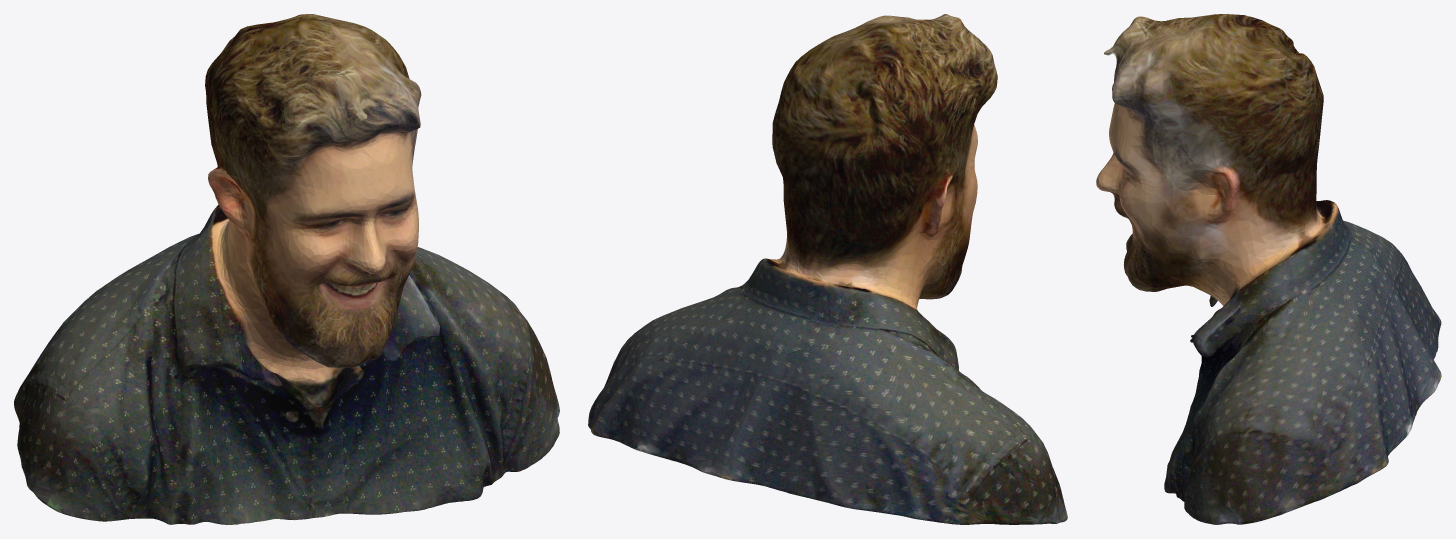
Rendered from ben-head.glb.
The picture shows the model from 3 angles, left to right: view 1: azimuth 30°, elevation 25°; view 2: azimuth 150°, elevation 25°; view 3: azimuth 270°, elevation 25°; orthographic projection. The views are drawn at different scales.
Visible parts, largest first — view 1: model_mesh; view 2: model_mesh; view 3: model_mesh.
Boxes of the visible parts, x1=… form: model_mesh: x1=14, y1=14, x2=559, y2=524; model_mesh: x1=588, y1=14, x2=1067, y2=524; model_mesh: x1=1096, y1=14, x2=1441, y2=524.
Bounding box in the file's own units: 10.26 × 9.59 × 7.18.
1 material, 1 textured.
